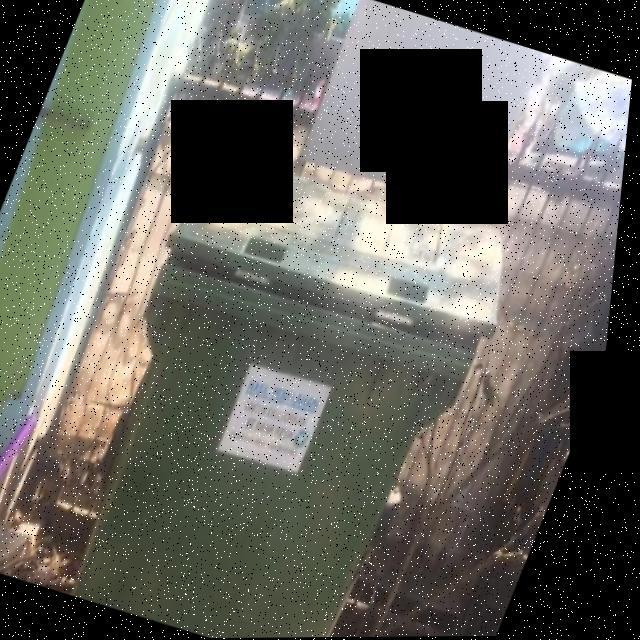bin: (29, 123, 551, 640)
